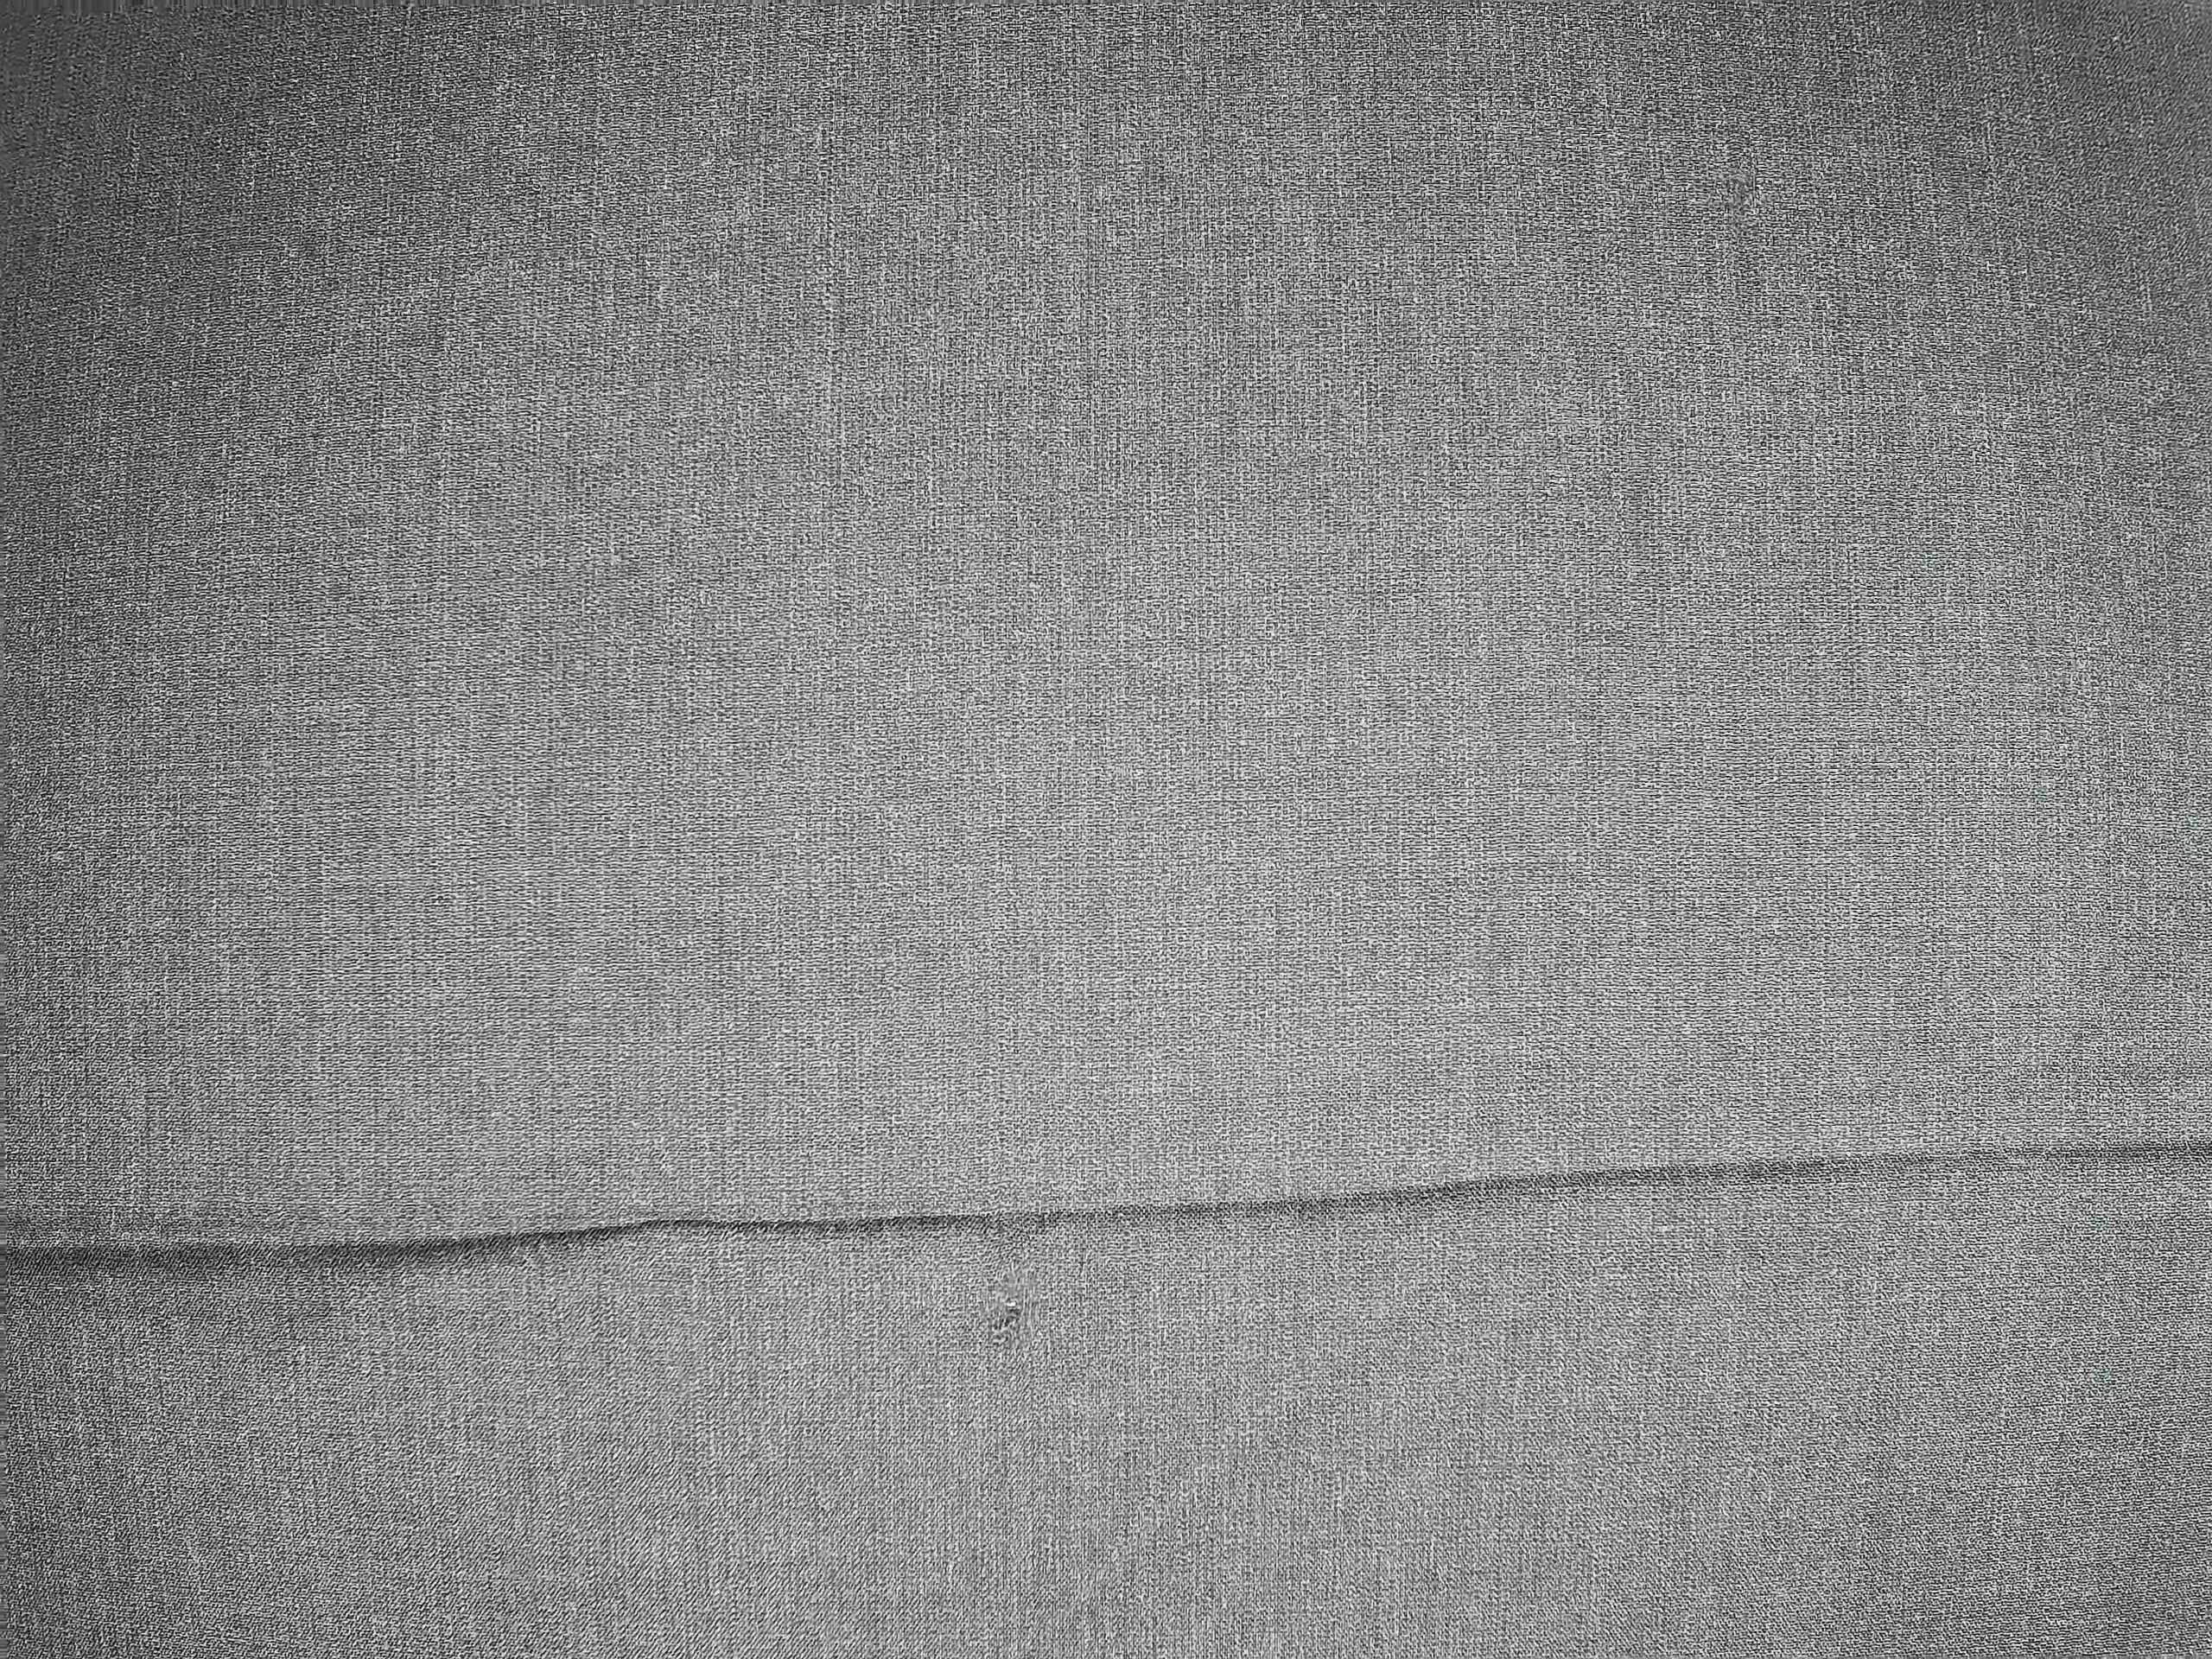rubbing-hole: (972, 1279, 1045, 1356)
